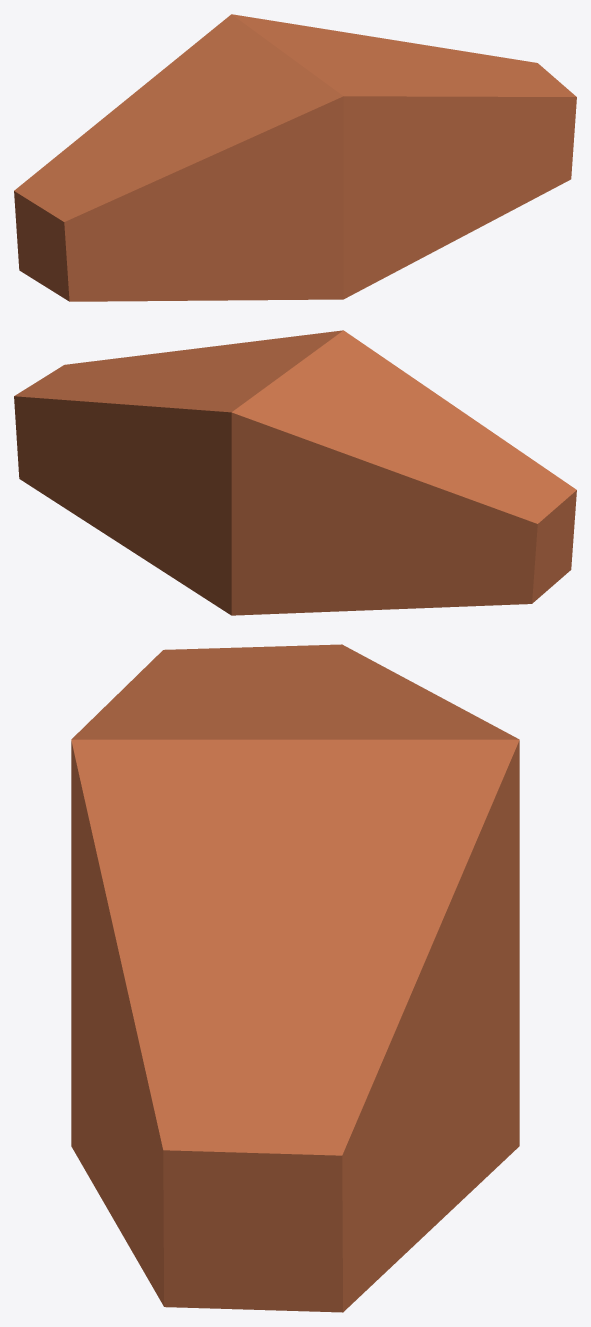
The model's file is SweetPotato.fbx.
3 views of the same model, one above another, from view 1: azimuth 30°, elevation 25°; view 2: azimuth 150°, elevation 25°; view 3: azimuth 270°, elevation 25° (orthographic). The views are drawn at different scales.
Parts seen in each view (by area): view 1: SweetPotato; view 2: SweetPotato; view 3: SweetPotato.
Boxes of the visible parts, left/top/right/bottom form: SweetPotato: left=14, top=14, right=576, bottom=301; SweetPotato: left=14, top=330, right=576, bottom=615; SweetPotato: left=71, top=644, right=519, bottom=1312.
Bounding box in the file's own units: 1.43 × 0.5303 × 0.5303.
1 material, 1 textured.
